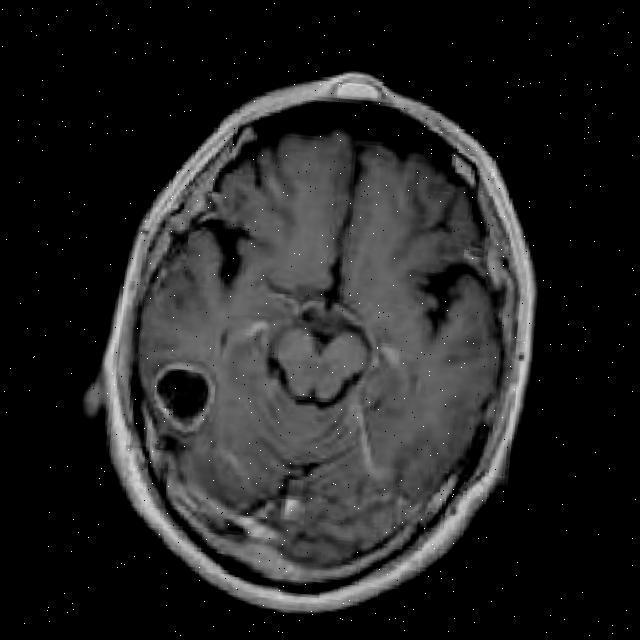MCI: (140, 342, 217, 460)
